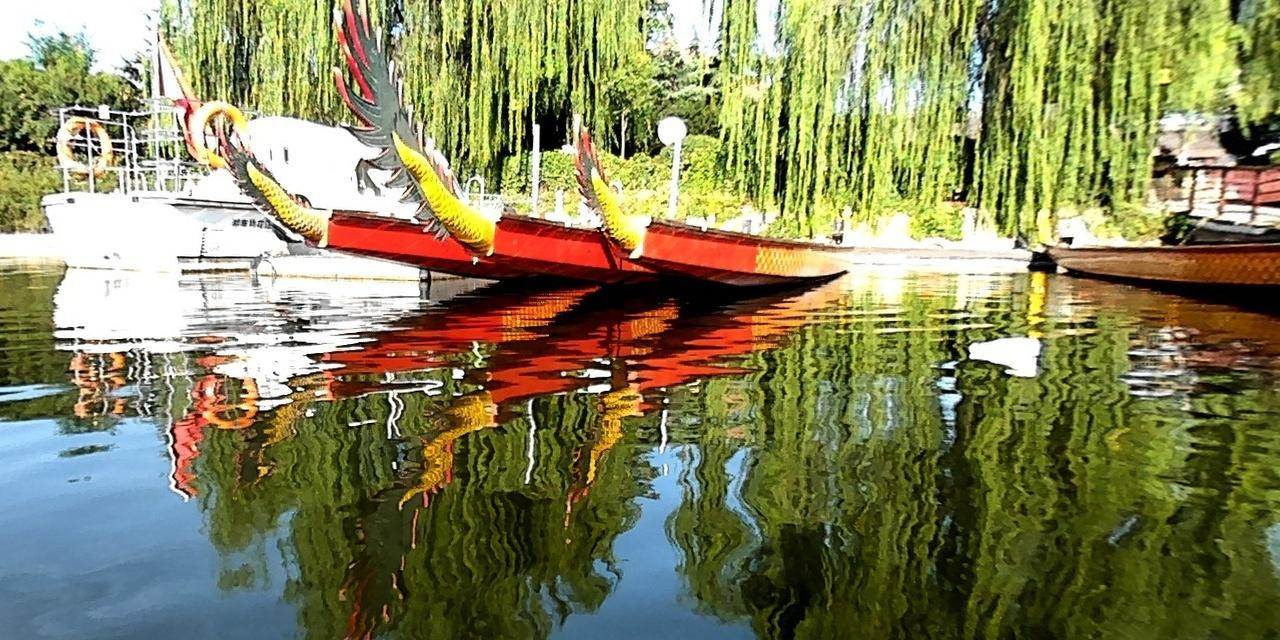bottle: (966, 334, 1041, 358)
